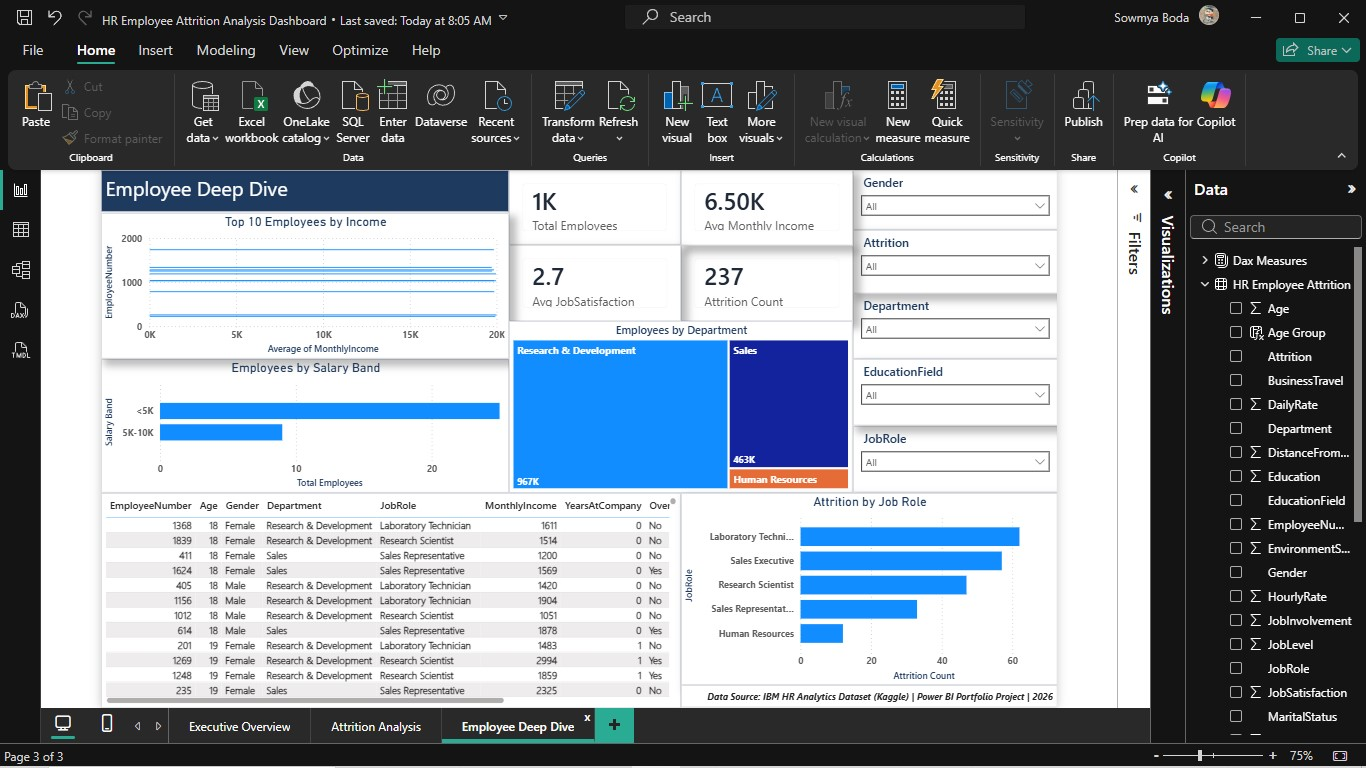

Layout of this report page (visuals, bound fields, positions):
{"tool":"powerbi","page":{"name":"Employee Deep Dive","canvas":[1280,720],"ordinal":2},"visuals":[{"type":"textbox","box":[0,0,546.4,56.4],"z":0},{"type":"slicer","fields":{"Values":["HR Employee Attrition.Department"]},"box":[1006.1,165.2,273.9,88.1],"z":1000},{"type":"slicer","fields":{"Values":["HR Employee Attrition.JobRole"]},"box":[1006.1,342.7,273.9,89.5],"z":2000},{"type":"slicer","fields":{"Values":["HR Employee Attrition.Gender"]},"box":[1006.1,0,273.9,79.8],"z":3000},{"type":"slicer","fields":{"Values":["HR Employee Attrition.EducationField"]},"box":[1006.1,253.2,273.9,89.5],"z":4000},{"type":"slicer","fields":{"Values":["HR Employee Attrition.Attrition"]},"box":[1006.1,79.8,273.9,85.3],"z":5000},{"type":"cardVisual","fields":{"Data":["Dax Measures.Total Employees"]},"box":[546.4,0,229.8,100.5],"z":6000},{"type":"cardVisual","fields":{"Data":["Dax Measures.Attrition Count"]},"box":[776.1,100.8,230.1,102.5],"z":7000},{"type":"cardVisual","fields":{"Data":["Dax Measures.Avg Monthly Income"]},"box":[776.1,0,230.1,100.8],"z":8000},{"type":"cardVisual","fields":{"Data":["Dax Measures.Avg JobSatisfaction"]},"box":[545.9,100.8,230.1,102.5],"z":9000},{"type":"barChart","title":"Employees by Salary Band","fields":{"Category":["HR Employee Attrition.Salary Band"],"Y":["Dax Measures.Total Employees"]},"box":[0,253.2,546.4,178.9],"z":10000},{"type":"barChart","title":"Top 10 Employees by Income","fields":{"Category":["HR Employee Attrition.EmployeeNumber"],"Y":["Avg(HR Employee Attrition.MonthlyIncome)"]},"box":[0,57.8,546.4,195.4],"z":11000},{"type":"tableEx","fields":{"Values":["HR Employee Attrition.EmployeeNumber","HR Employee Attrition.Age","HR Employee Attrition.Gender","HR Employee Attrition.Department","HR Employee Attrition.JobRole","HR Employee Attrition.MonthlyIncome","HR Employee Attrition.YearsAtCompany","HR Employee Attrition.OverTime","HR Employee Attrition.Attrition","HR Employee Attrition.JobSatisfaction","HR Employee Attrition.WorkLifeBalance"]},"box":[0,432.2,776.3,287.7],"z":12000},{"type":"treemap","title":"Employees by Department","fields":{"Group":["HR Employee Attrition.Department"],"Values":["Sum(HR Employee Attrition.EmployeeNumber)"]},"box":[546.4,202.3,459.7,229.8],"z":13000},{"type":"barChart","title":"Attrition by Job Role","fields":{"Y":["Dax Measures.Attrition Count"],"Category":["HR Employee Attrition.JobRole"]},"box":[776.3,432.2,503.7,257.4],"z":14000},{"type":"textbox","box":[776.3,689.5,503.7,30.3],"z":14001}]}

Visuals, with their boxes on the page's 1280x720 design canvas (x1, y1, x2, y2). These are canvas units, not pixel positions in the 1366x768 screenshot, which may show the page scaled, cropped or inside an application window:
textbox: 0/0/546/56
slicer - HR Employee Attrition.Department: 1006/165/1280/253
slicer - HR Employee Attrition.JobRole: 1006/343/1280/432
slicer - HR Employee Attrition.Gender: 1006/0/1280/80
slicer - HR Employee Attrition.EducationField: 1006/253/1280/343
slicer - HR Employee Attrition.Attrition: 1006/80/1280/165
cardVisual - Dax Measures.Total Employees: 546/0/776/100
cardVisual - Dax Measures.Attrition Count: 776/101/1006/203
cardVisual - Dax Measures.Avg Monthly Income: 776/0/1006/101
cardVisual - Dax Measures.Avg JobSatisfaction: 546/101/776/203
"Employees by Salary Band" barChart: 0/253/546/432
"Top 10 Employees by Income" barChart: 0/58/546/253
tableEx - HR Employee Attrition.EmployeeNumber x HR Employee Attrition.Age: 0/432/776/720
"Employees by Department" treemap: 546/202/1006/432
"Attrition by Job Role" barChart: 776/432/1280/690
textbox: 776/690/1280/720
